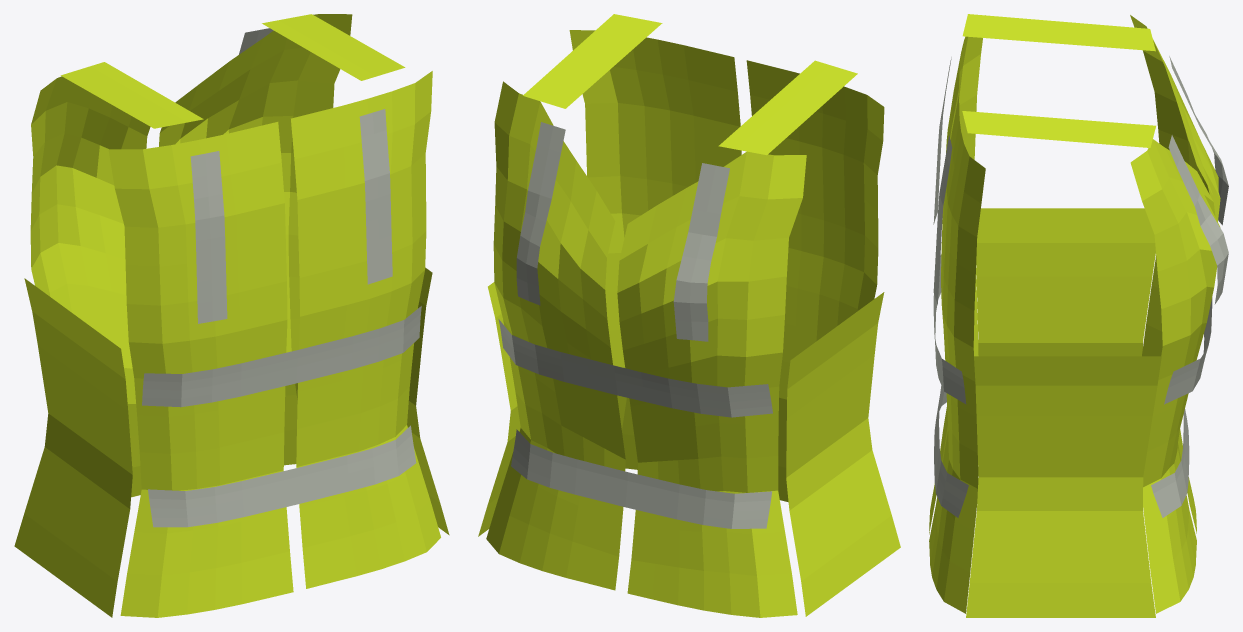
The model's file is lwf_steward_female_overlay_v1.glb.
3 views of the same model, side by side, from view 1: azimuth 30°, elevation 25°; view 2: azimuth 150°, elevation 25°; view 3: azimuth 270°, elevation 25° (orthographic). The views are drawn at different scales.
Visible parts, largest first — view 1: LWF_Steward_Female_Overlay; view 2: LWF_Steward_Female_Overlay; view 3: LWF_Steward_Female_Overlay.
Part boxes in pixels (x1,y1,x2,y2): LWF_Steward_Female_Overlay: (14,14,449,617); LWF_Steward_Female_Overlay: (478,14,900,617); LWF_Steward_Female_Overlay: (929,14,1228,617).
Bounding box in the file's own units: 0.3221 × 0.436 × 0.2551.
1 material, 1 textured.
